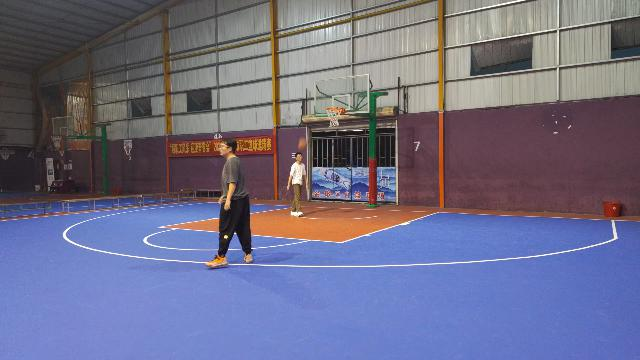ball: (298, 142, 306, 148)
basket: (326, 106, 344, 126), (50, 134, 62, 148)
